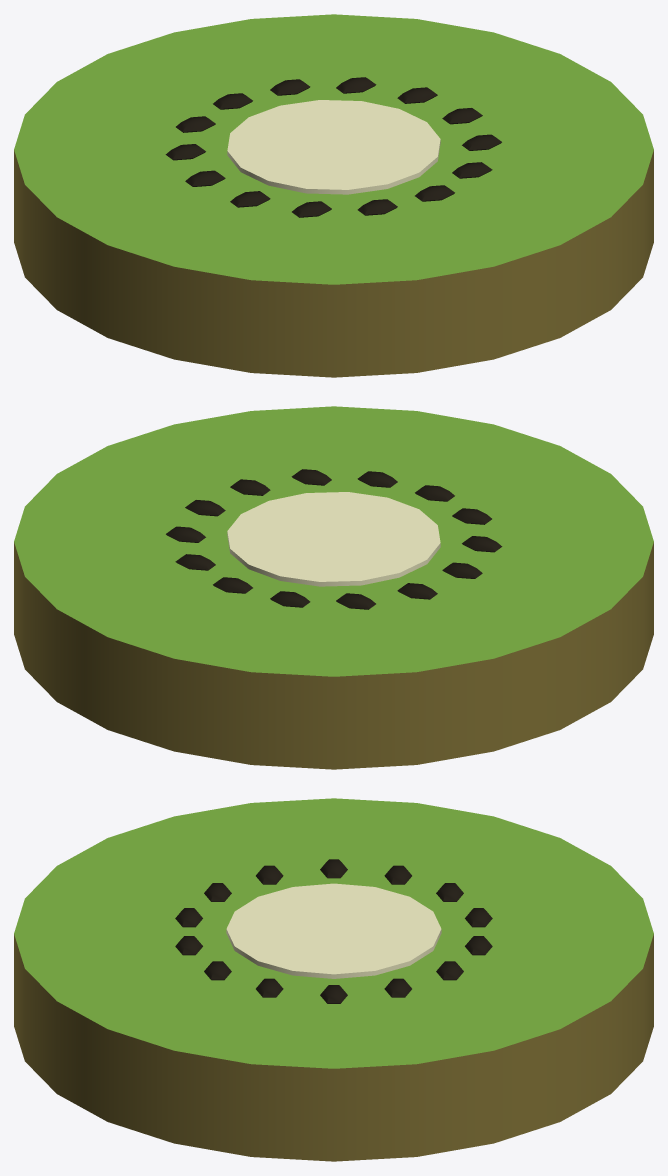
Rendered from topping-kiwi.glb.
The picture shows the model from 3 angles, top to bottom: view 1: azimuth 30°, elevation 25°; view 2: azimuth 150°, elevation 25°; view 3: azimuth 270°, elevation 25°; orthographic projection.
Visible parts, largest first — view 1: topping-kiwi; view 2: topping-kiwi; view 3: topping-kiwi.
Boxes of the visible parts, x1=… form: topping-kiwi: x1=14, y1=14, x2=653, y2=377; topping-kiwi: x1=14, y1=406, x2=653, y2=769; topping-kiwi: x1=14, y1=798, x2=653, y2=1161.
Bounding box in the file's own units: 0.025 × 0.00433 × 0.025.
